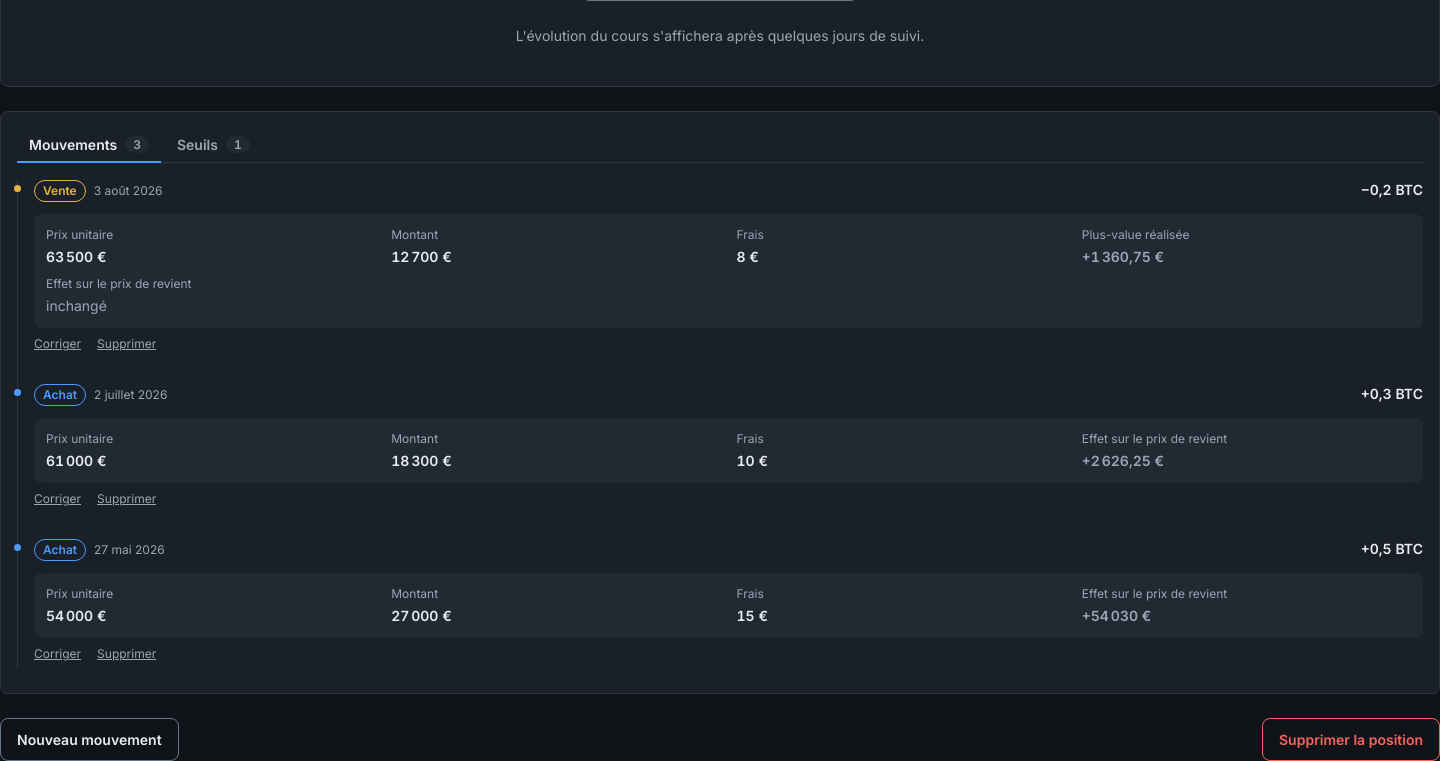
suppression › nomme la conséquence avant de supprimer un achat
The width and height of the screenshot is (1440, 761).
(page scrolled)
Click the button named "Supprimer achat".
click(127, 498)  # box [97,483,156,514]
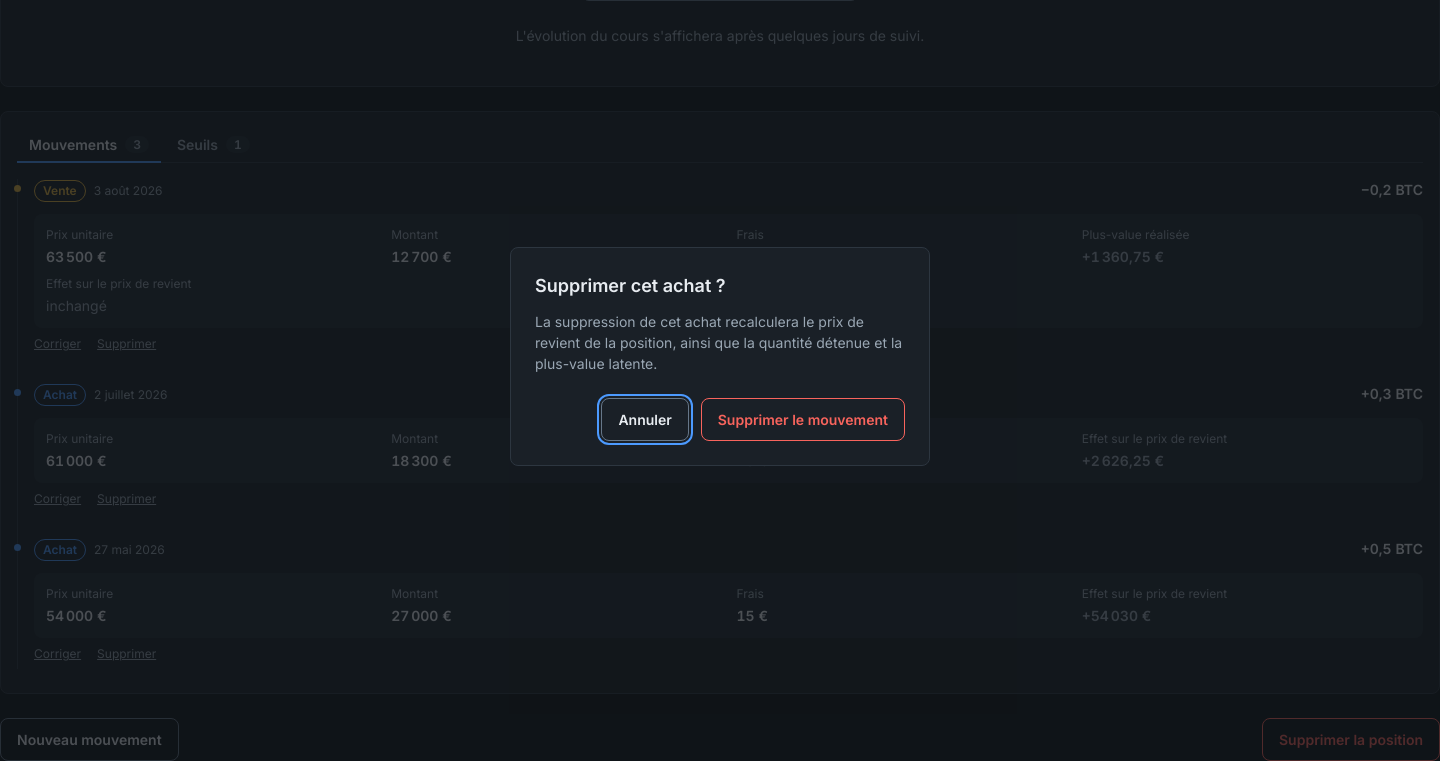
Expected: the dialog is shown, [510,246,930,466]
Expected: the text "recalculera le prix de revient" is shown, [535,312,902,372]
